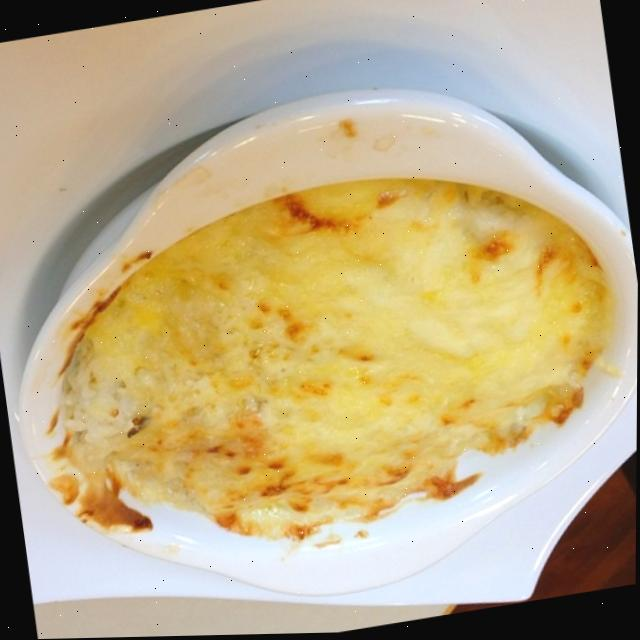米饭主食: (5, 63, 640, 632)
